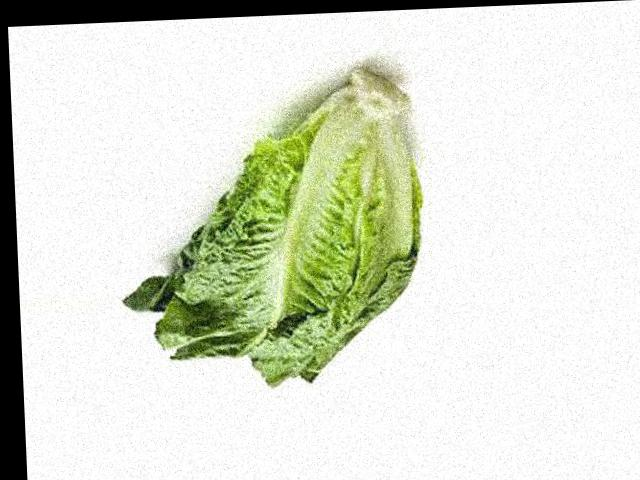lettuce: (449, 117, 552, 376)
